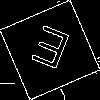E: (25, 25, 73, 79)
